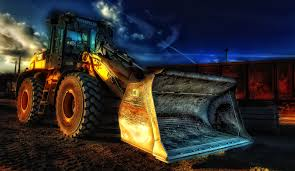bulldozer: (17, 12, 255, 164)
